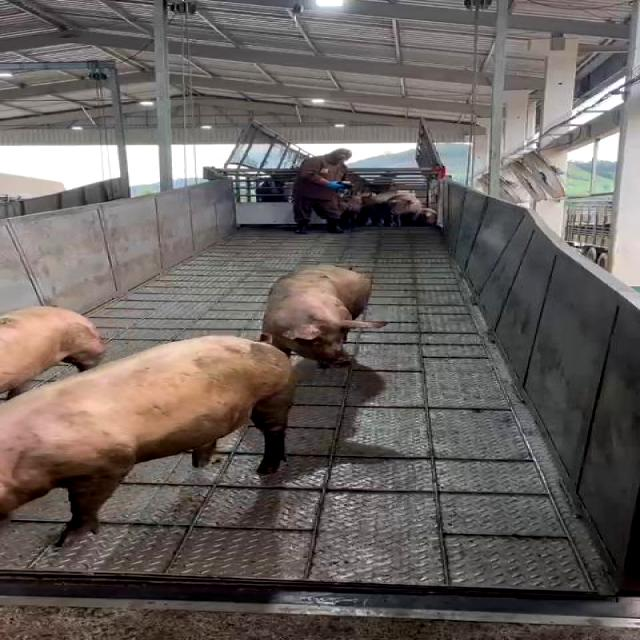pig: (1, 337, 295, 545), (263, 267, 382, 367)
